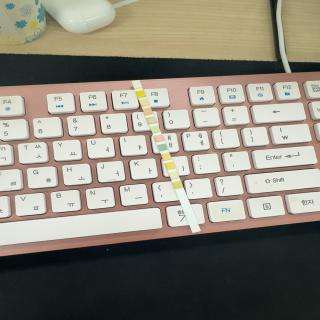mark: (158, 144, 168, 150), (144, 108, 152, 115), (162, 153, 170, 160), (136, 91, 145, 97), (155, 135, 164, 141), (166, 162, 175, 168), (133, 82, 141, 88), (148, 117, 156, 123), (152, 126, 160, 132), (170, 172, 178, 178), (174, 182, 182, 188), (140, 100, 148, 105)
